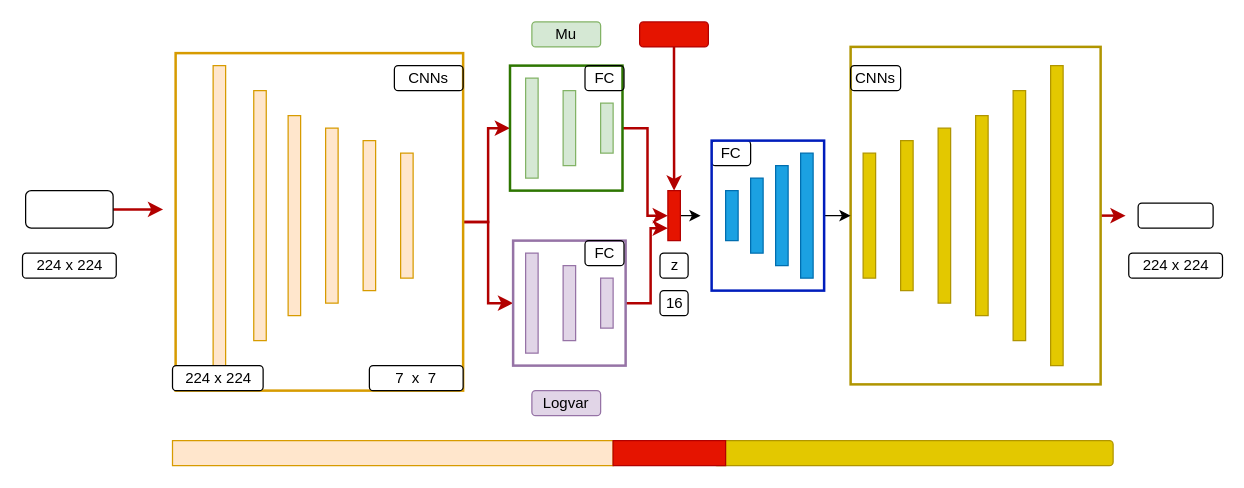
The diagram is 1244 pixels wide and 488 high, and some of its shapes have lost their labels. The box of each missing label's shape, as (x1, y1, x2, y2) in pixels:
Bottleneck: (612, 439, 726, 466)
Decoder: (712, 439, 1113, 466)
Encoder: (171, 439, 613, 466)
Input: (24, 189, 113, 228)
Noise: (638, 21, 708, 47)
Output: (1137, 202, 1213, 228)
